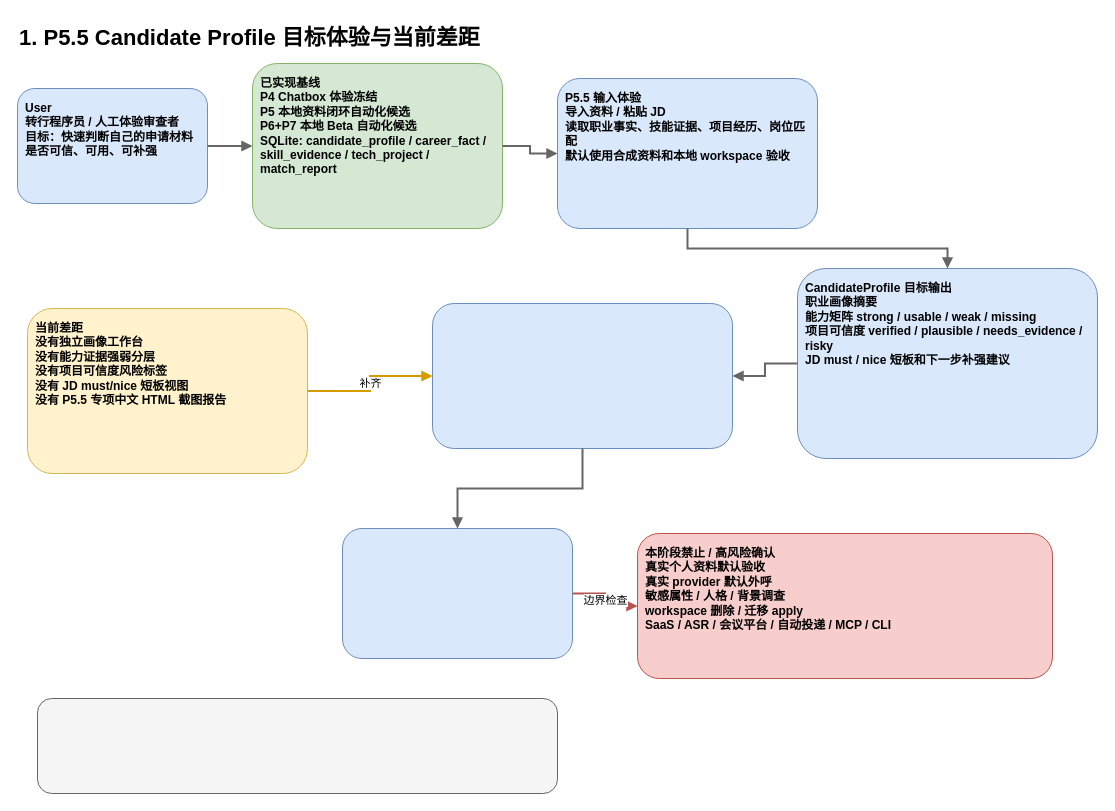
The diagram is 1115 pixels wide and 811 high, and some of its shapes have lost their labels. Each missing label, with the box of its shape:
P5.5 可视化验收 中文 HTML 报告 真实界面截图 PRD 规格检视 未验证范围明确列出: (342, 528, 572, 658)
Profile Workbench 画像概览 / 能力矩阵 / 项目可信度 / 岗位短板 每条判断可展开 source refs、证据强度、待确认项和风险标签: (432, 302, 732, 448)
颜色语义 绿=已实现基线；蓝=本阶段计划新增；黄=需修改/复验；橙=高风险确认；灰=后续；红=禁止/打回。: (36, 698, 558, 794)
